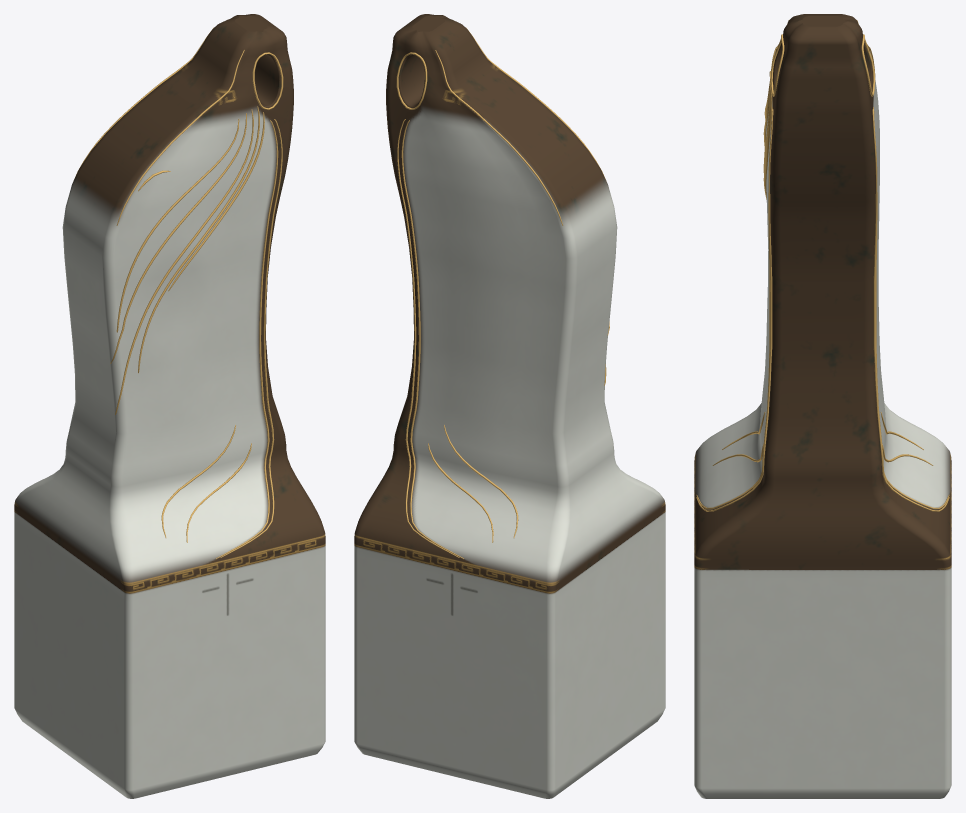
File: QingGuiR02_LODs.fbx
3 views of the same model, side by side, from view 1: azimuth 30°, elevation 25°; view 2: azimuth 150°, elevation 25°; view 3: azimuth 270°, elevation 25° (orthographic). The views are drawn at different scales.
Visible parts, largest first — view 1: QingGuiR02_Body_LOD0, QingGuiR02_GoldWire_LOD0; view 2: QingGuiR02_Body_LOD0, QingGuiR02_GoldWire_LOD0; view 3: QingGuiR02_Body_LOD0, QingGuiR02_GoldWire_LOD0.
Boxes of the visible parts, left/top/right/bottom form: QingGuiR02_Body_LOD0: left=14, top=14, right=325, bottom=798; QingGuiR02_GoldWire_LOD0: left=74, top=27, right=283, bottom=558; QingGuiR02_Body_LOD0: left=354, top=14, right=665, bottom=798; QingGuiR02_GoldWire_LOD0: left=396, top=27, right=609, bottom=558; QingGuiR02_Body_LOD0: left=694, top=14, right=951, bottom=798; QingGuiR02_GoldWire_LOD0: left=696, top=20, right=949, bottom=511.
Size of what is drawn, in the model's own units: 10.95 by 35 by 10.61.
2 materials, 1 textured.
